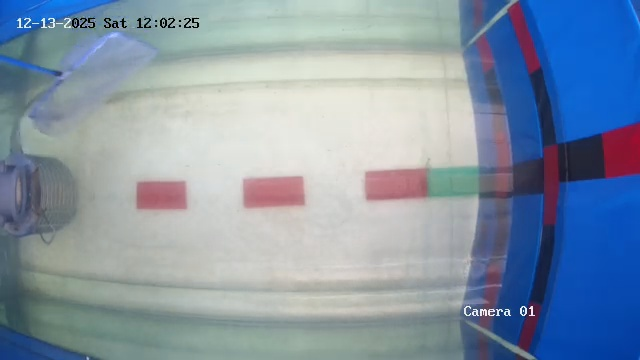fish: (467, 213, 492, 255)
